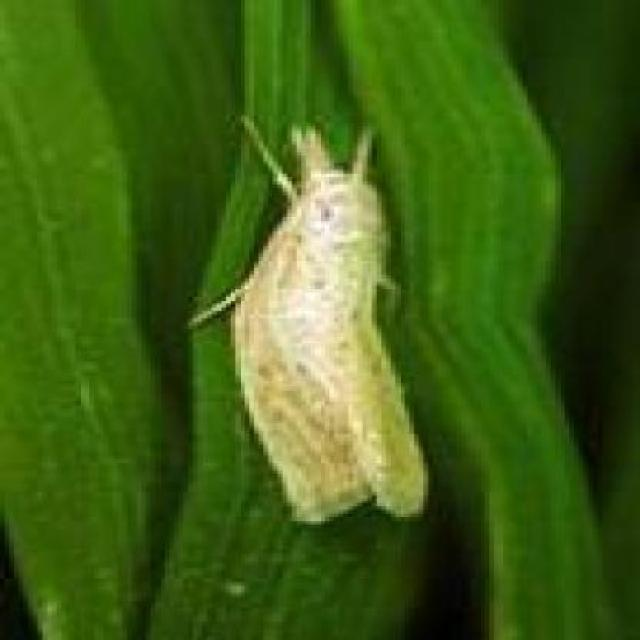stem-borer: (187, 110, 436, 528)
